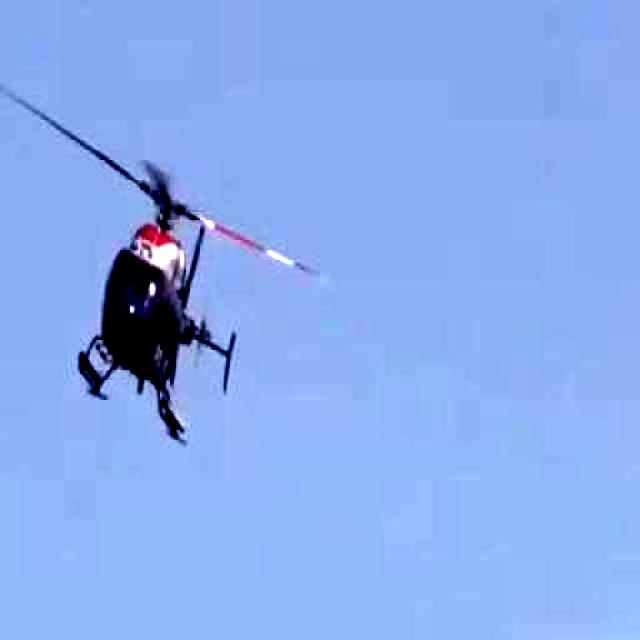drone: (0, 82, 318, 479)
